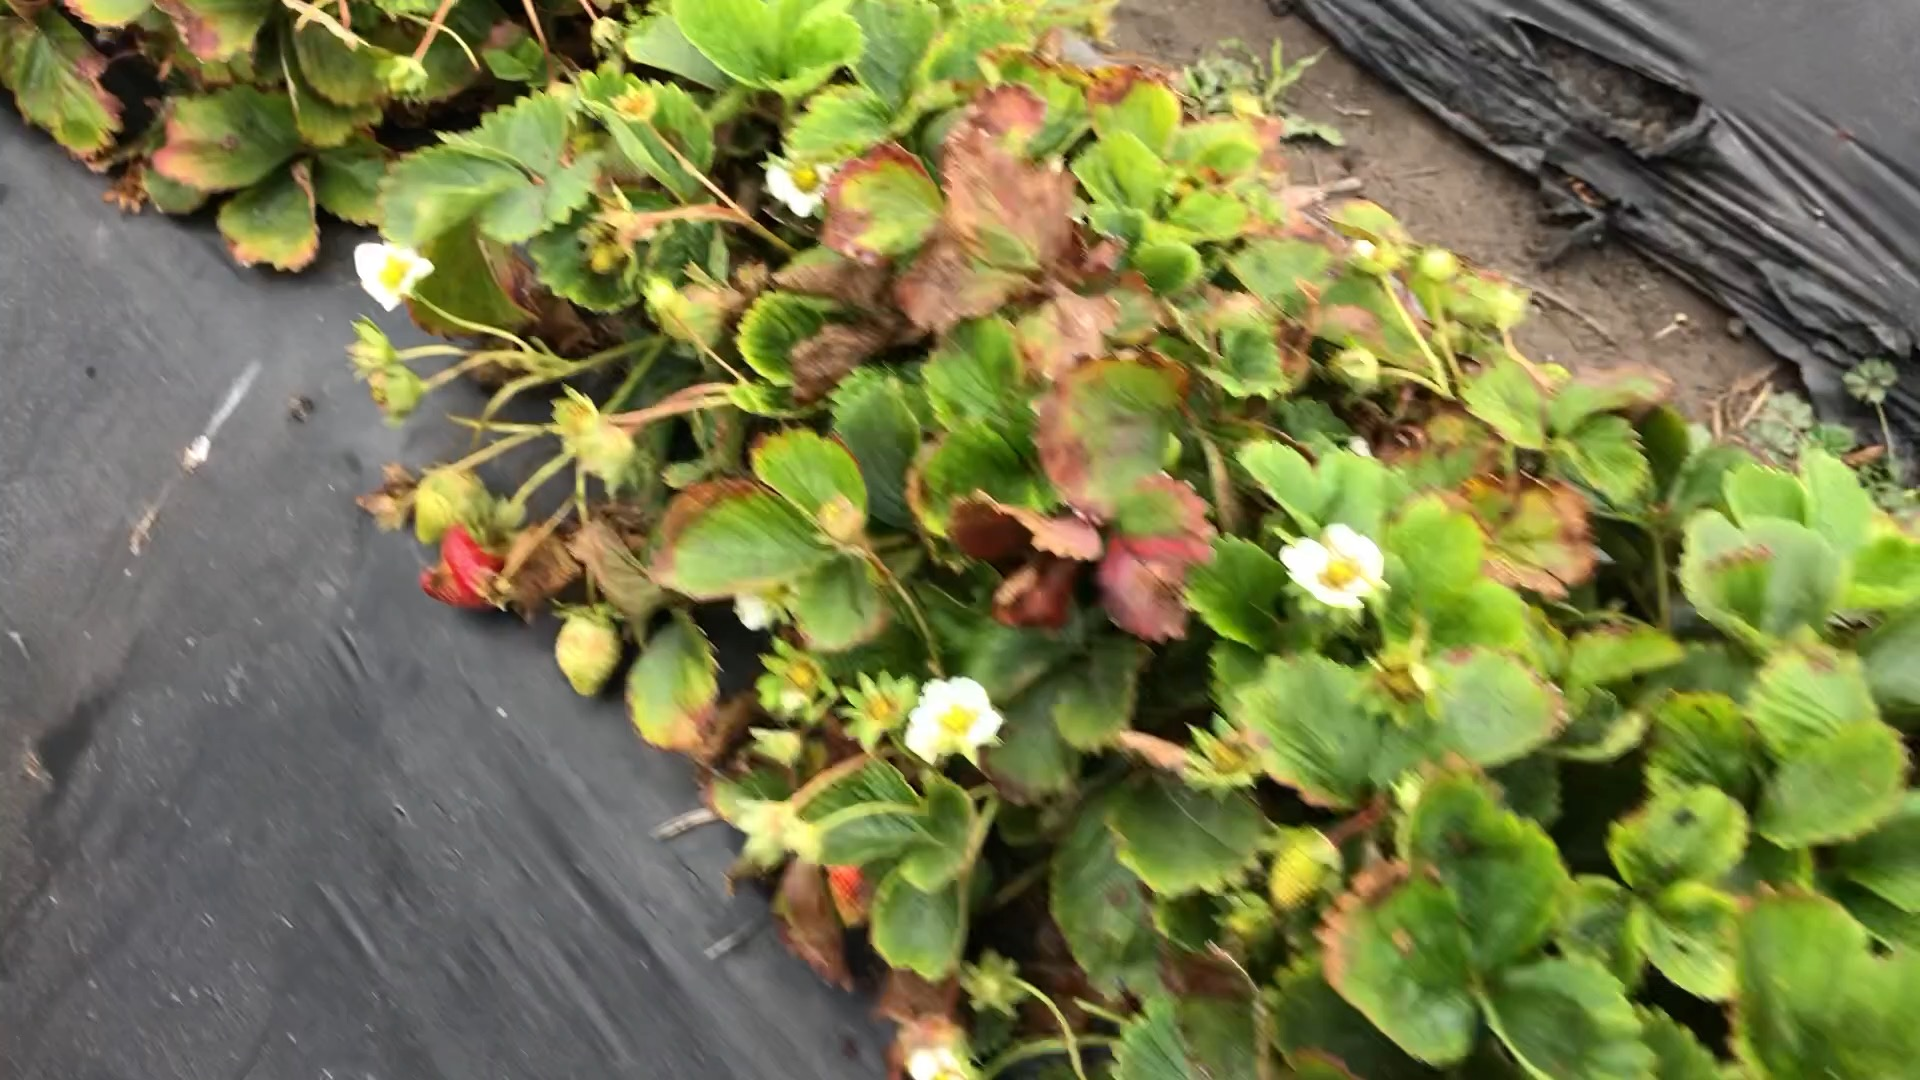ripe_strawberry: (415, 521, 512, 616)
unripe_strawberry: (555, 607, 629, 700), (1269, 827, 1342, 916), (411, 467, 471, 549)
